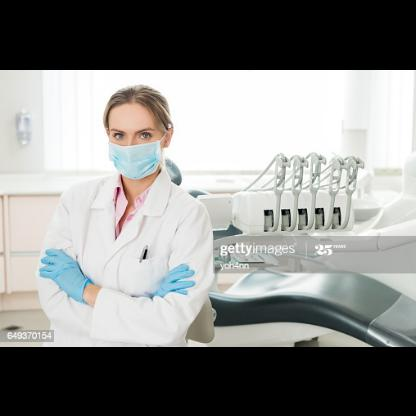Surgical Mask: (102, 94, 174, 178)
